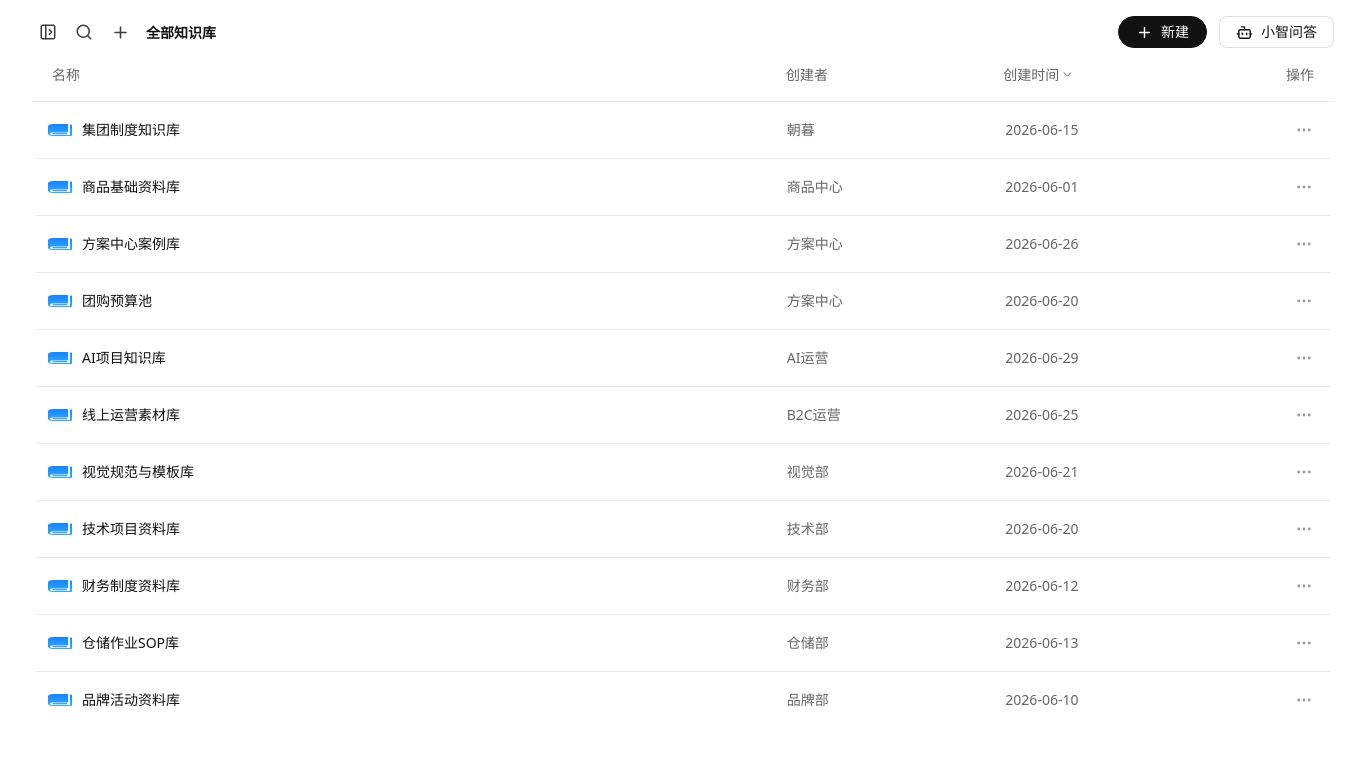
Scenario: KnowledgeBaseView source clone › allows an inherited member to be selected again while keeping the dual-source row read-only
The width and height of the screenshot is (1366, 768).
Click the button with test id "knowledge-kb-row" showing "集团制度知识库 朝暮 2026-06-15" at (131, 130), box x1=36 y1=102 x2=1330 y2=159
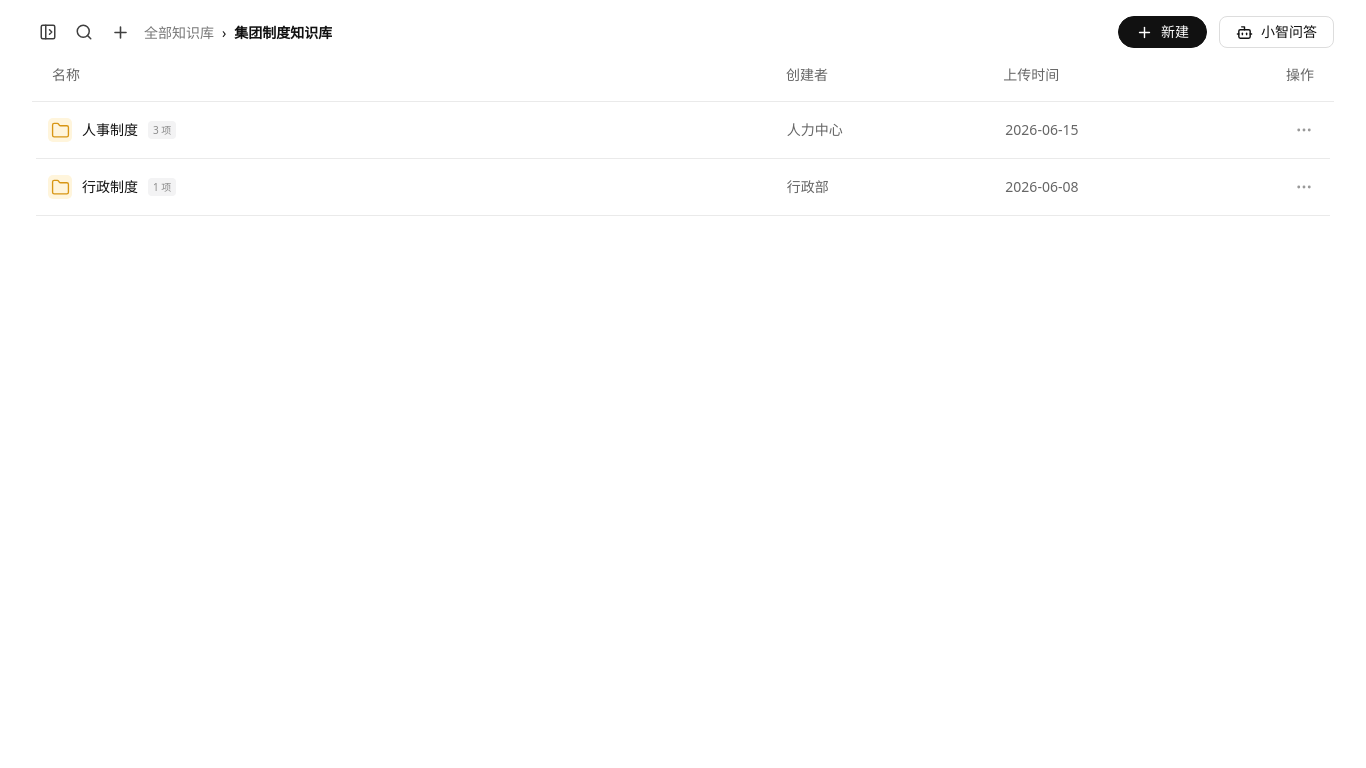
Click the button named "人事制度操作菜单" at (1304, 130), box x1=1294 y1=120 x2=1314 y2=140
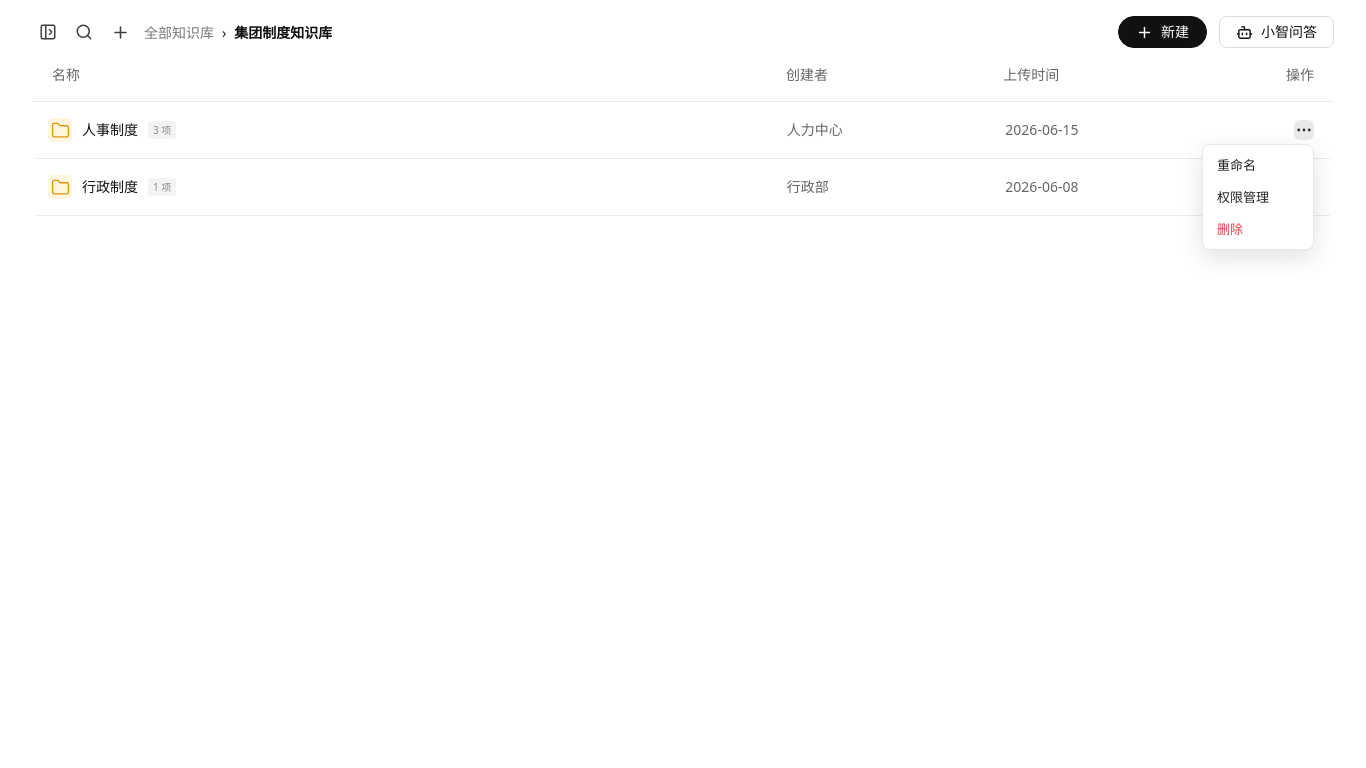
Click the menu item "权限管理" at (1258, 197), box x1=1207 y1=181 x2=1309 y2=213
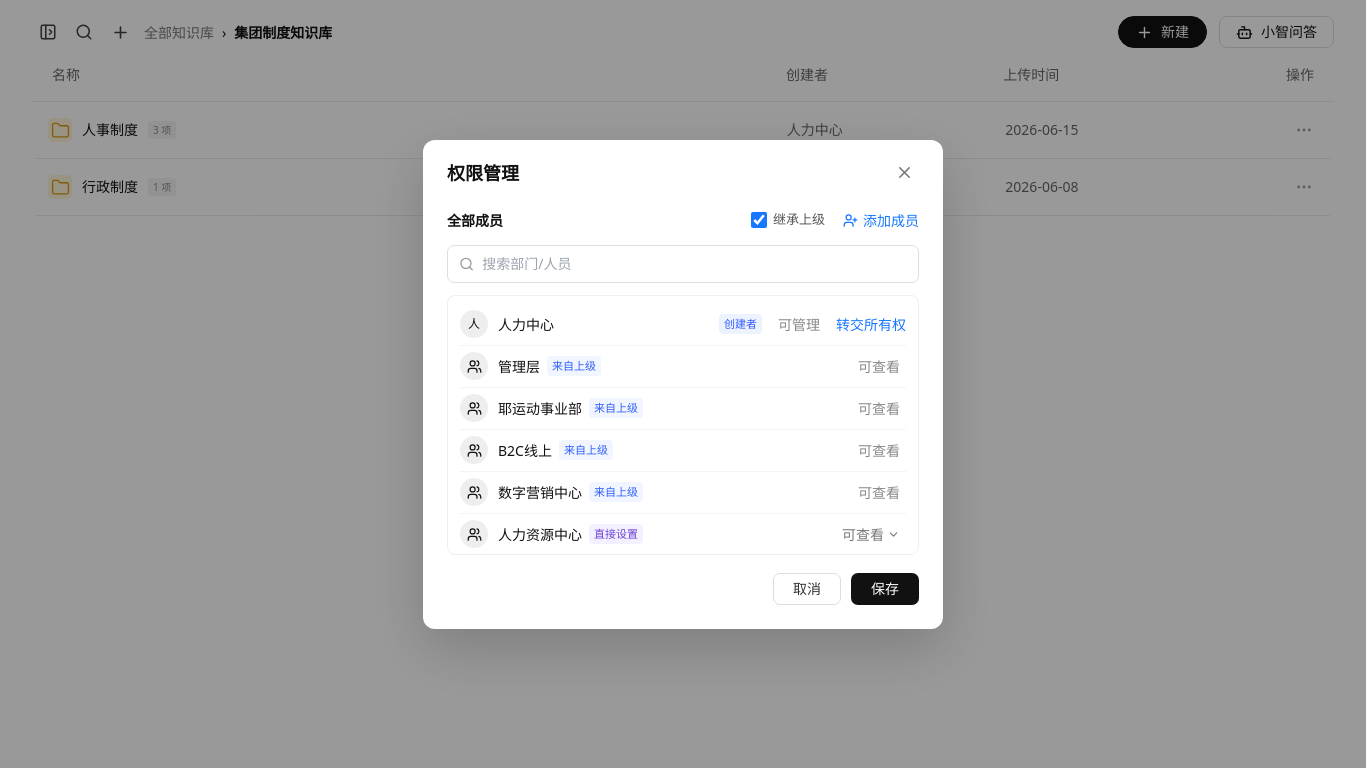
Click the button with aria-label "添加成员" at (881, 220), box x1=843 y1=210 x2=919 y2=230
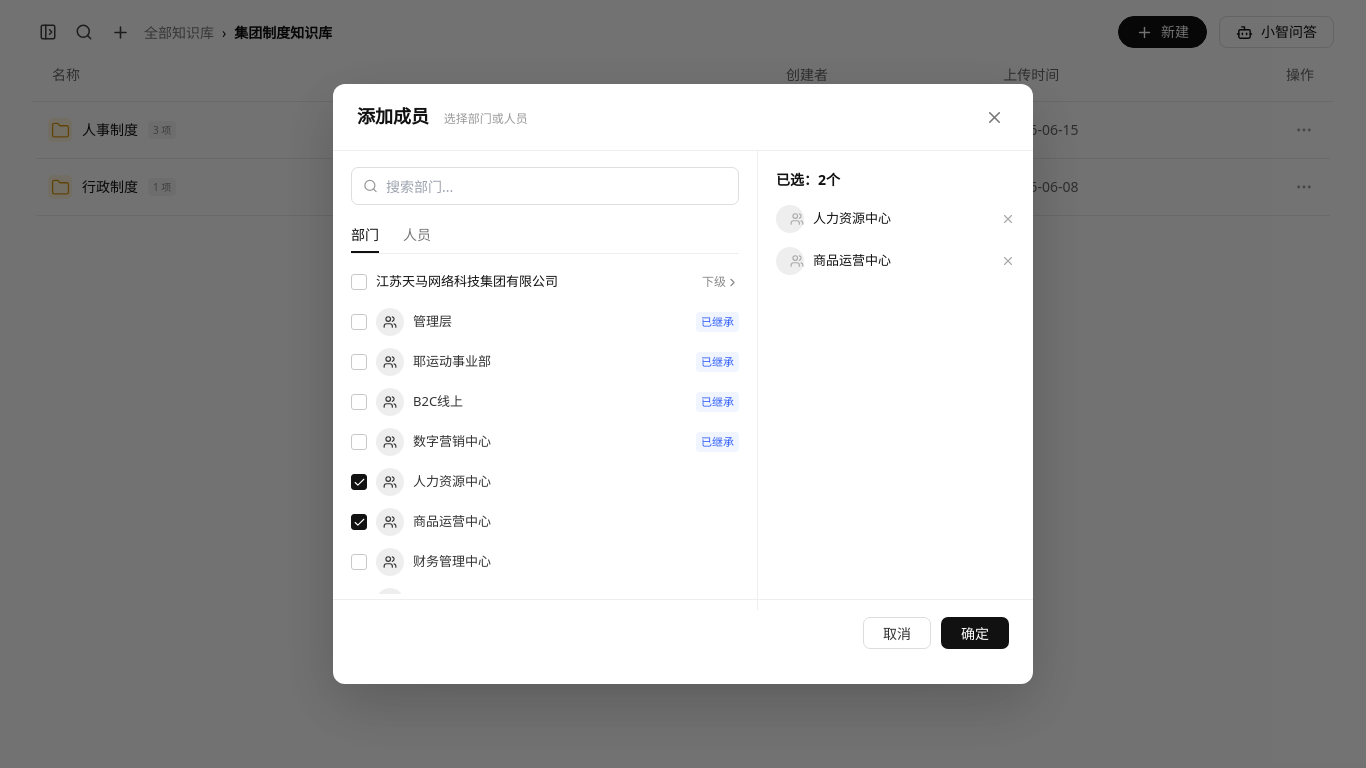
Click the button with aria-label "选择管理层" at (433, 321), box x1=351 y1=302 x2=739 y2=342
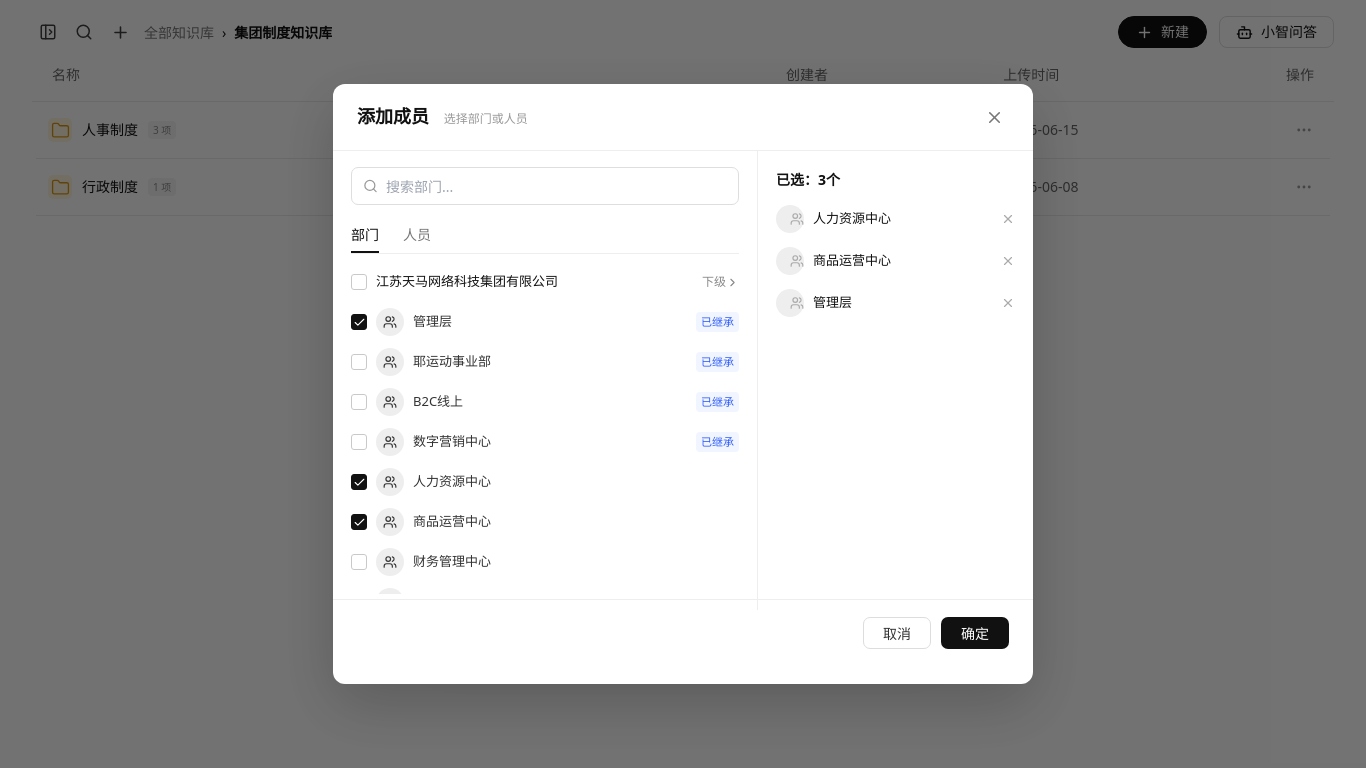
Click the button "确定" at (975, 633), box x1=941 y1=617 x2=1009 y2=649
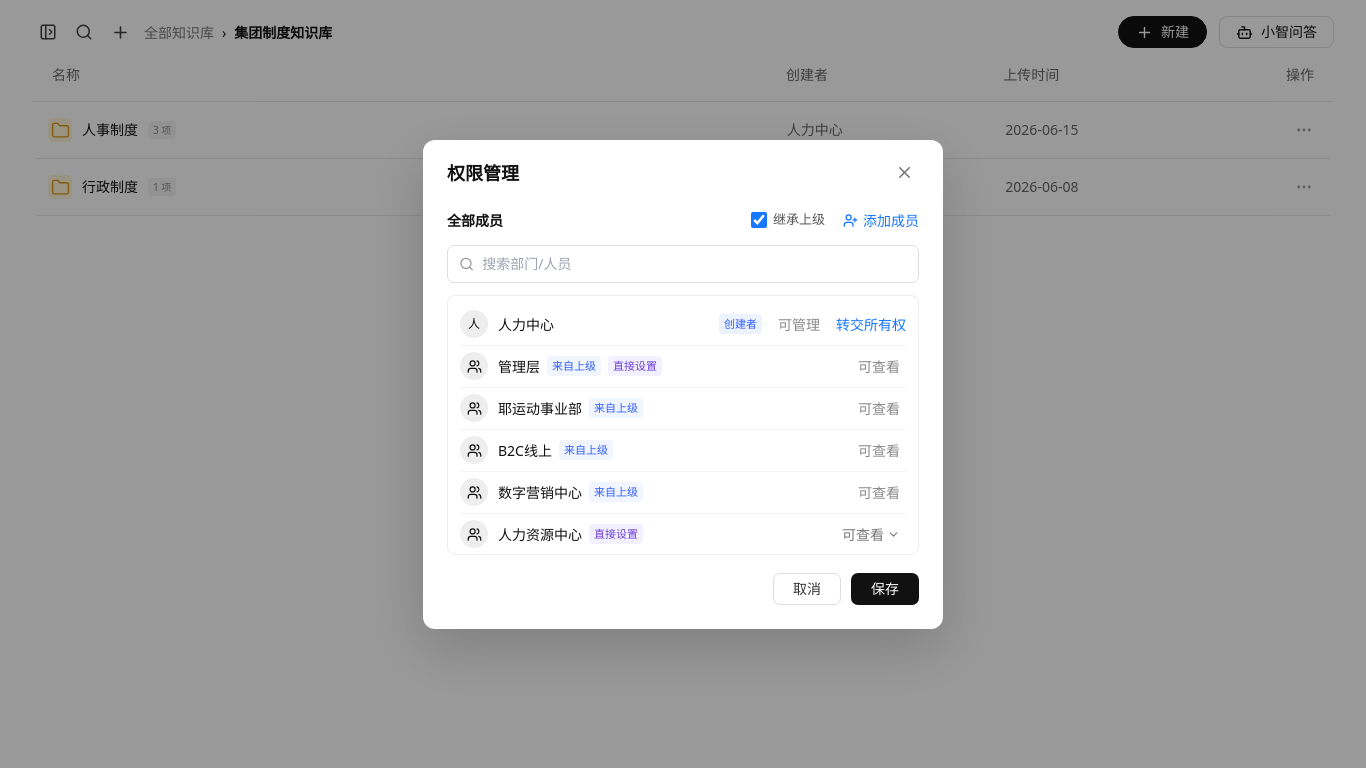
expect the list item "管理层 来自上级 直接设置 可查看" is shown: met, box x1=460 y1=346 x2=906 y2=388
